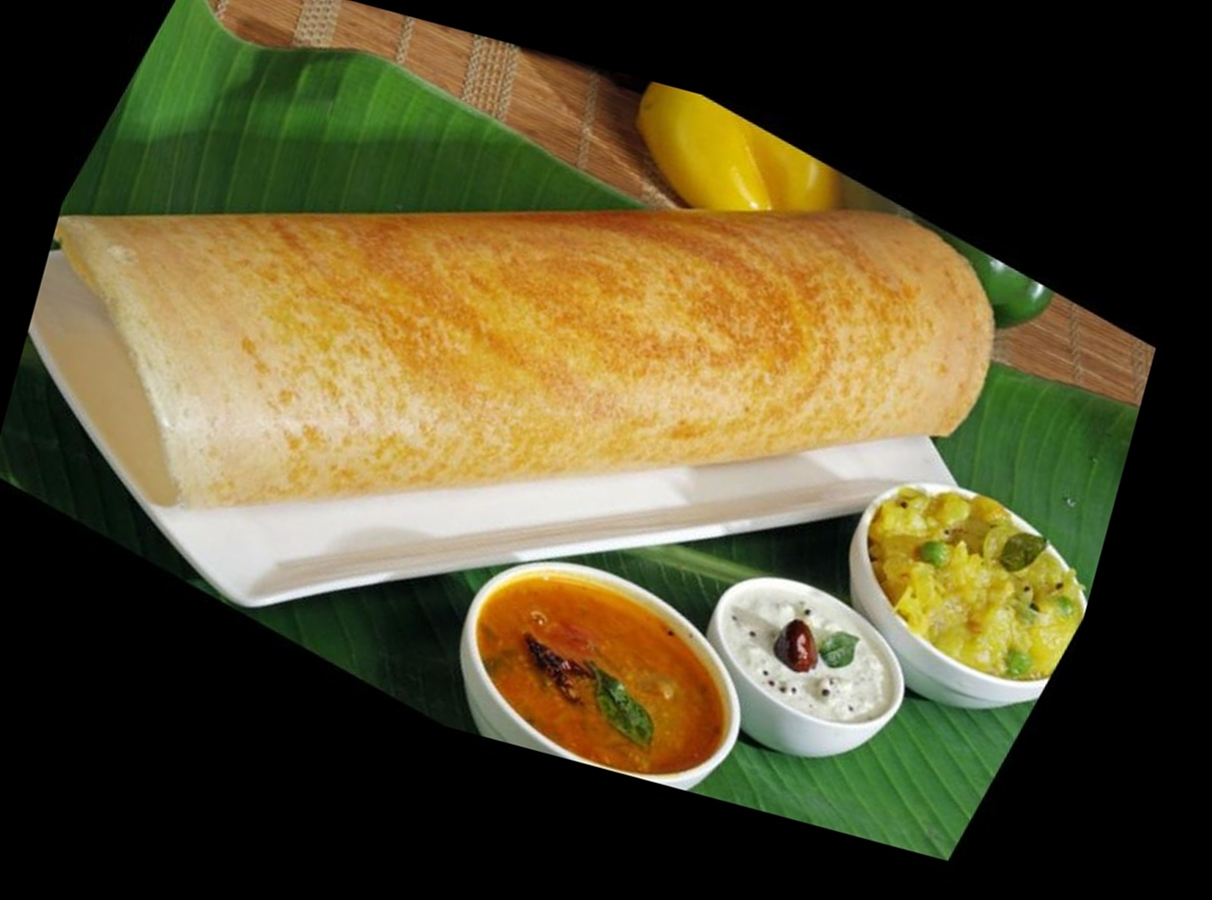dosa: (54, 207, 1017, 507)
